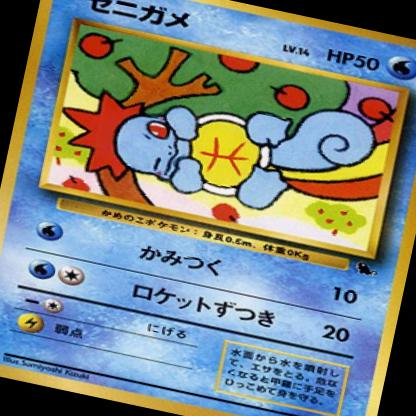Squirtle: (91, 52, 379, 235)
